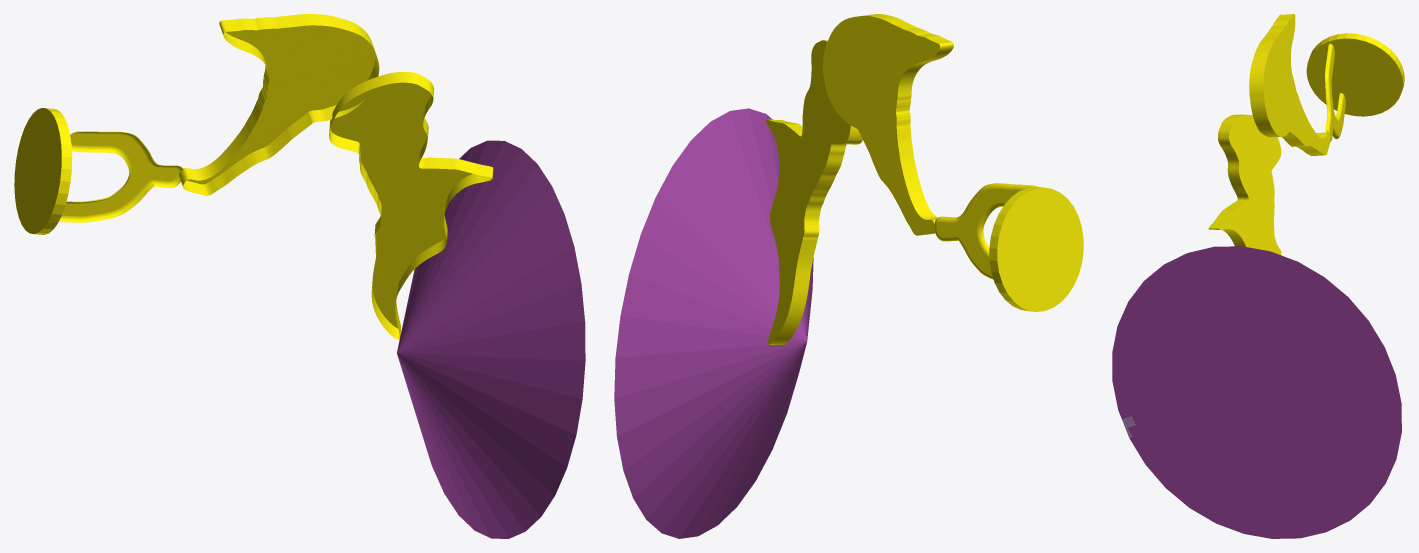
Rendered from timpano_izq.obj.
3 views of the same model, side by side, from view 1: azimuth 30°, elevation 25°; view 2: azimuth 150°, elevation 25°; view 3: azimuth 270°, elevation 25° (orthographic). The views are drawn at different scales.
Parts seen in each view (by area): view 1: Timpano.001_Cone.002, Martillo.001_BezierCircle.008, Yunque.001_BezierCircle.007, Estribillo_p2.001_Cylinder.003, Estribillo_p1.001_BezierCircle.006; view 2: Timpano.001_Cone.002, Yunque.001_BezierCircle.007, Martillo.001_BezierCircle.008, Estribillo_p2.001_Cylinder.003, Estribillo_p1.001_BezierCircle.006; view 3: Timpano.001_Cone.002, Martillo.001_BezierCircle.008, Estribillo_p2.001_Cylinder.003, Yunque.001_BezierCircle.007, Estribillo_p1.001_BezierCircle.006.
Boxes of the visible parts, left/top/right/bottom form: Timpano.001_Cone.002: left=397, top=140, right=585, bottom=538; Martillo.001_BezierCircle.008: left=329, top=72, right=493, bottom=339; Yunque.001_BezierCircle.007: left=179, top=14, right=379, bottom=195; Estribillo_p2.001_Cylinder.003: left=14, top=108, right=72, bottom=234; Estribillo_p1.001_BezierCircle.006: left=59, top=131, right=183, bottom=222; Timpano.001_Cone.002: left=614, top=108, right=813, bottom=538; Yunque.001_BezierCircle.007: left=822, top=14, right=953, bottom=235; Martillo.001_BezierCircle.008: left=765, top=40, right=862, bottom=344; Estribillo_p2.001_Cylinder.003: left=989, top=187, right=1083, bottom=311; Estribillo_p1.001_BezierCircle.006: left=934, top=183, right=1037, bottom=279; Timpano.001_Cone.002: left=1112, top=246, right=1401, bottom=538; Martillo.001_BezierCircle.008: left=1208, top=114, right=1281, bottom=255; Estribillo_p2.001_Cylinder.003: left=1306, top=33, right=1404, bottom=116; Yunque.001_BezierCircle.007: left=1249, top=14, right=1330, bottom=155; Estribillo_p1.001_BezierCircle.006: left=1325, top=43, right=1345, bottom=141.
Bounding box in the file's own units: 0.0433 × 0.0538 × 0.0329.
